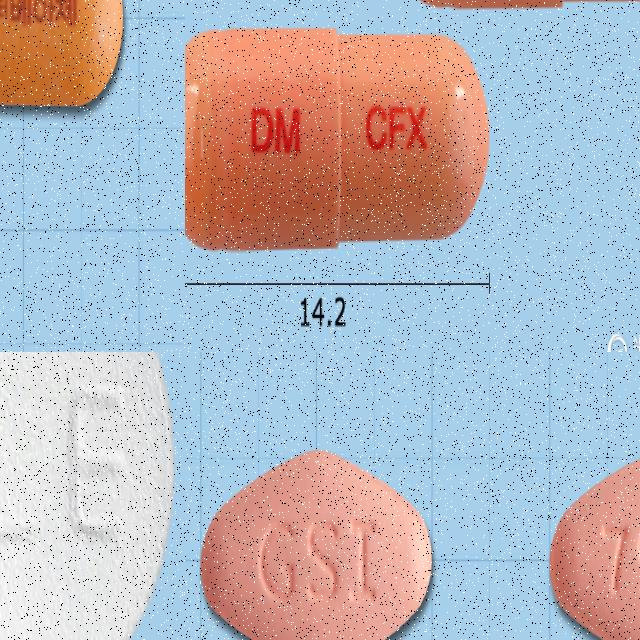Dr- Bearse: (0, 0, 123, 106)
Fixima: (185, 26, 490, 248)
Harvoni: (200, 449, 433, 640), (549, 448, 640, 640)
Levofexin - 250mg: (0, 352, 175, 640)
